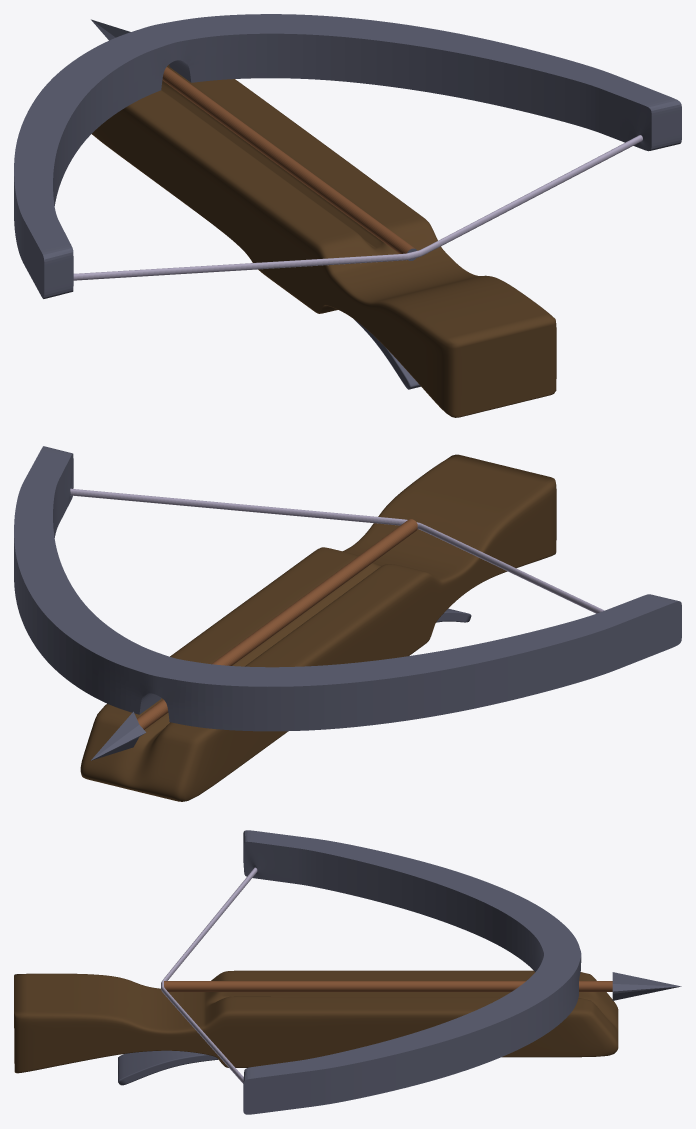
Rendered from Ballesta.fbx.
3 renders of one model, top to bottom at view 1: azimuth 30°, elevation 25°; view 2: azimuth 150°, elevation 25°; view 3: azimuth 270°, elevation 25°, orthographic. The views are drawn at different scales.
Visible parts, largest first — view 1: Cube, Plane, Cylinder; view 2: Plane, Cube, Cylinder; view 3: Cube, Plane, Cylinder.
Boxes of the visible parts, left/top/right/bottom form: Cube: left=92, top=64, right=556, bottom=417; Plane: left=14, top=14, right=681, bottom=298; Cylinder: left=91, top=19, right=417, bottom=260; Plane: left=14, top=446, right=681, bottom=731; Cube: left=80, top=454, right=556, bottom=801; Cylinder: left=91, top=519, right=417, bottom=760; Cube: left=14, top=970, right=618, bottom=1085; Plane: left=161, top=830, right=581, bottom=1114; Cylinder: left=164, top=972, right=681, bottom=1000.
Bounding box in the file's own units: 68.37 × 15.14 × 77.07.
